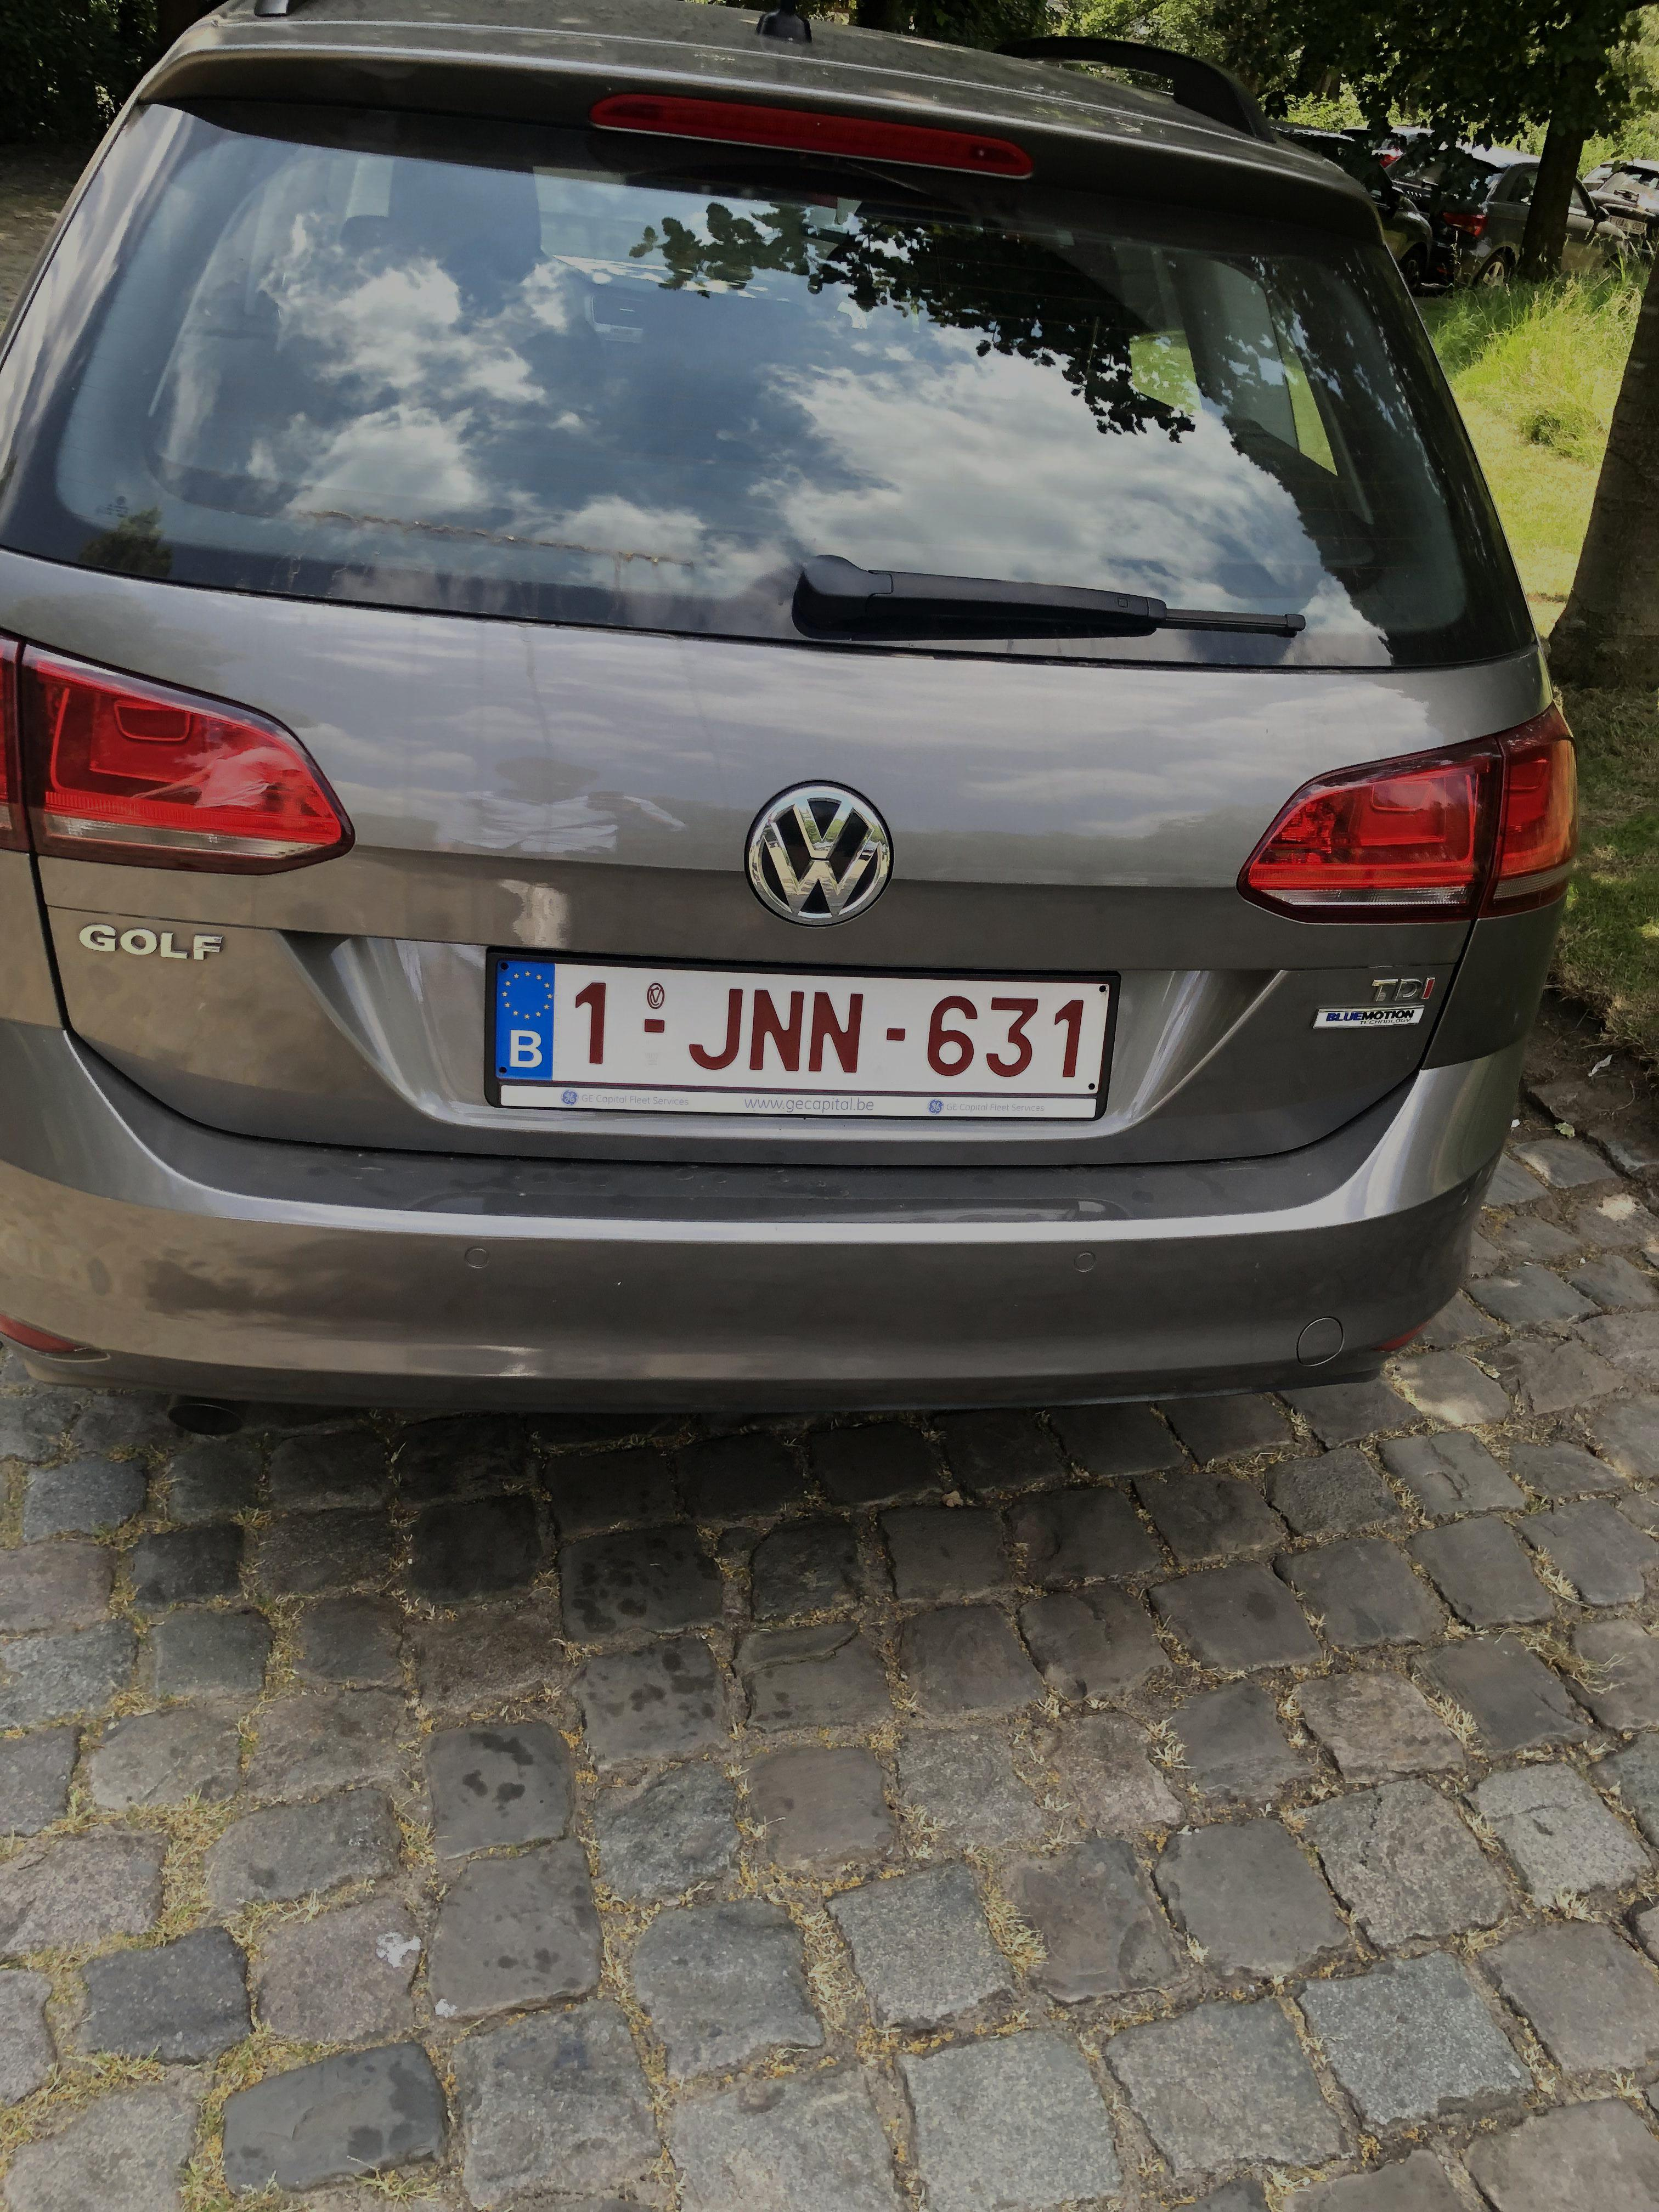plate: (460, 924, 1149, 1141)
